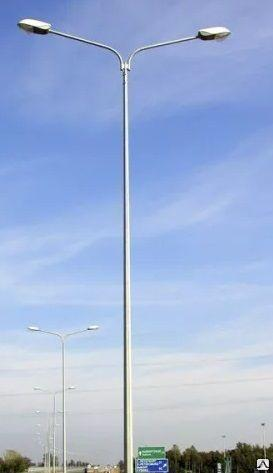Animal: (19, 8, 251, 473), (23, 319, 96, 470)
